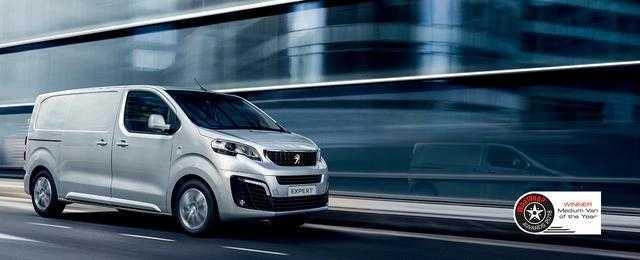car: (23, 76, 335, 239)
